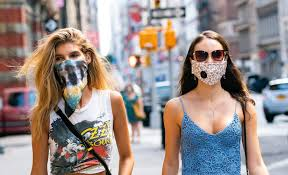FaceMask: (191, 61, 227, 85)
